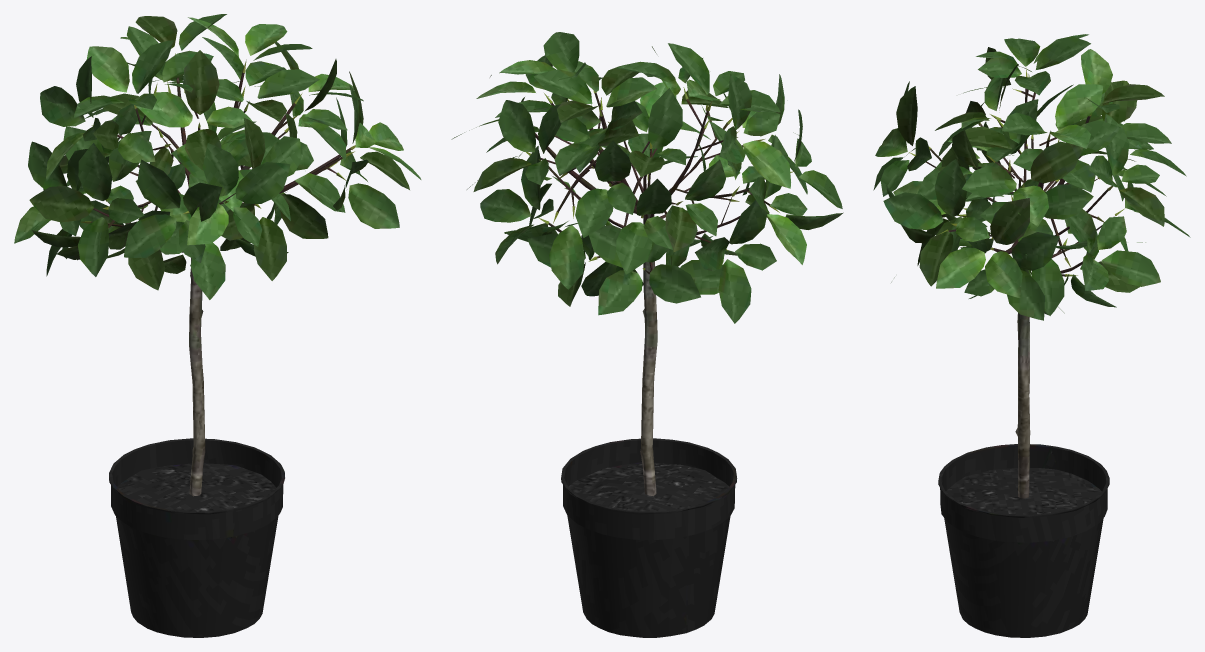
3 renders of one model, left to right at view 1: azimuth 30°, elevation 25°; view 2: azimuth 150°, elevation 25°; view 3: azimuth 270°, elevation 25°, orthographic. The views are drawn at different scales.
Parts seen in each view (by area): view 1: Object_5; view 2: Object_5; view 3: Object_5.
Boxes of the visible parts, box(x1,y1,x2,y2) form: Object_5: box(14, 14, 421, 637); Object_5: box(451, 32, 843, 637); Object_5: box(873, 34, 1190, 637).
Size of the model in its own units: 0.2941 by 0.4289 by 0.2221.
1 material, 1 textured.
